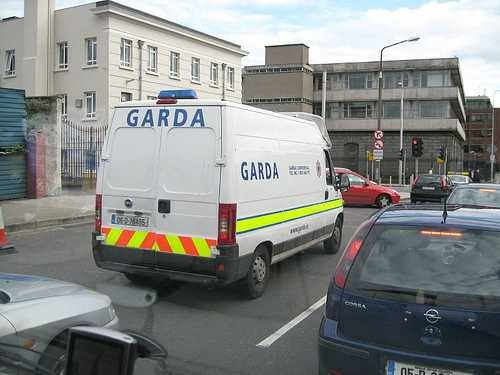Police Van: (77, 79, 345, 276)
